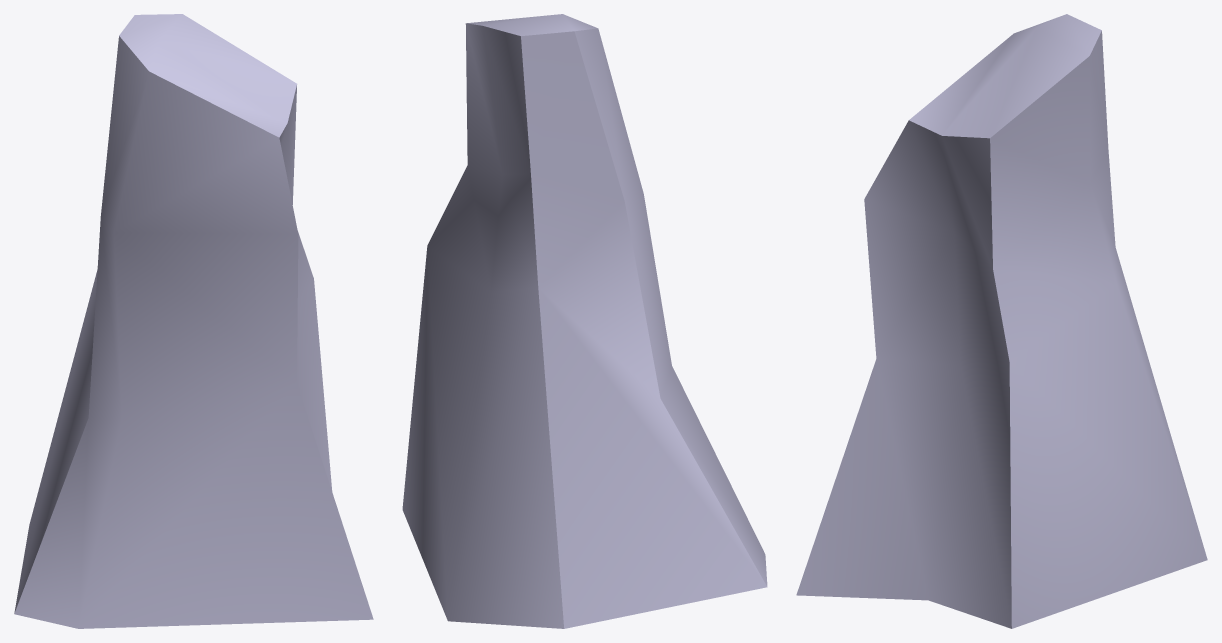
The picture shows the model from 3 angles, left to right: view 1: azimuth 30°, elevation 25°; view 2: azimuth 150°, elevation 25°; view 3: azimuth 270°, elevation 25°; orthographic projection. The views are drawn at different scales.
Parts seen in each view (by area): view 1: Object23; view 2: Object23; view 3: Object23.
Boxes of the visible parts, x1,y1,x2,y2 form: Object23: (14, 14, 373, 628); Object23: (402, 14, 767, 628); Object23: (796, 14, 1207, 628).
Size of the model in its own units: 89.92 by 133 by 95.39.
